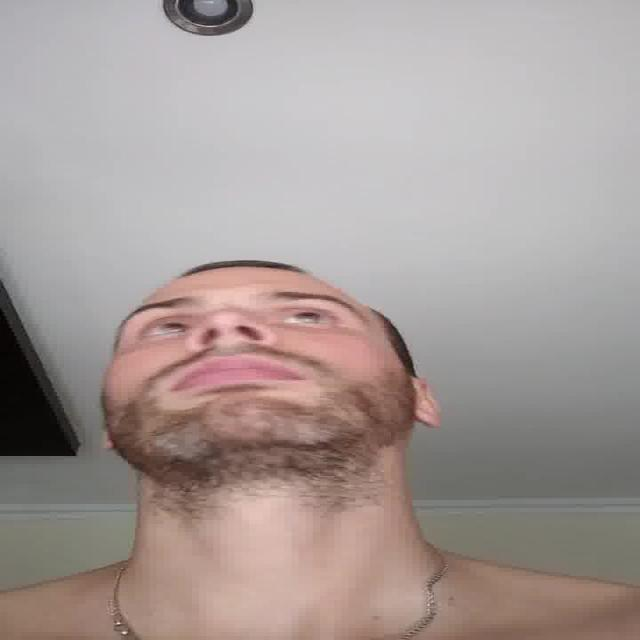earlobe: (412, 378, 442, 430)
